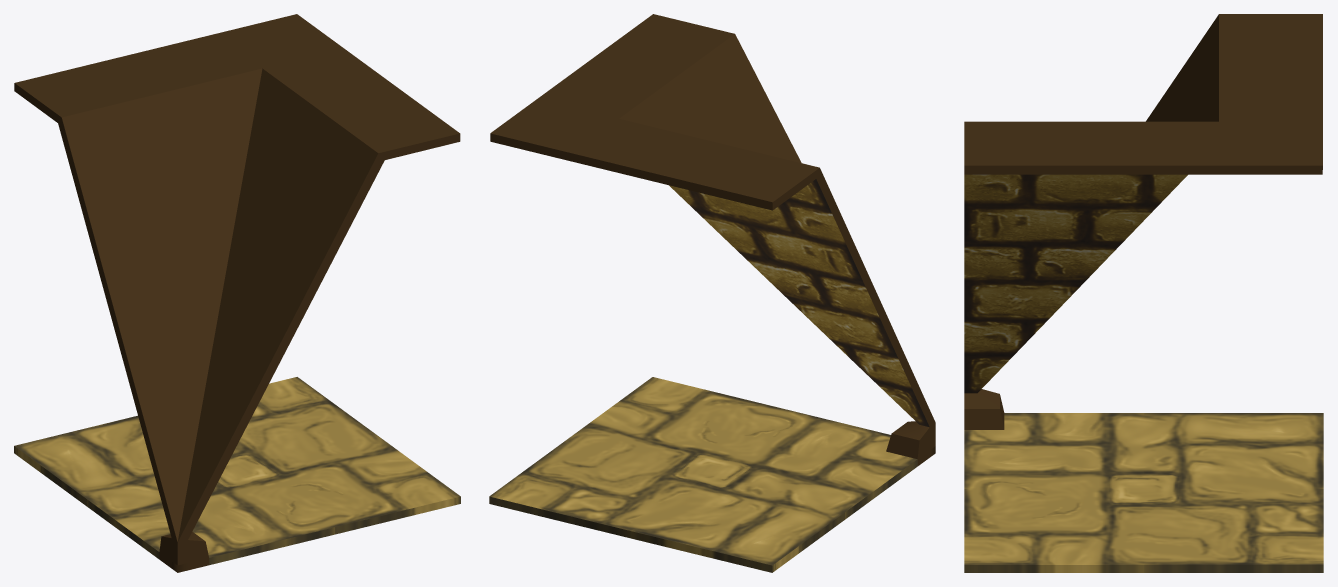
Rendered from Wall3.FBX.
3 views of the same model, side by side, from view 1: azimuth 30°, elevation 25°; view 2: azimuth 150°, elevation 25°; view 3: azimuth 270°, elevation 25° (orthographic). The views are drawn at different scales.
Visible parts, largest first — view 1: CornerConnector002; view 2: CornerConnector002; view 3: CornerConnector002.
Boxes of the visible parts, box(x1,y1,x2,y2) form: CornerConnector002: box(14, 14, 460, 572); CornerConnector002: box(489, 14, 935, 572); CornerConnector002: box(964, 14, 1323, 572).
Bounding box in the file's own units: 78.71 × 98.43 × 78.71.
